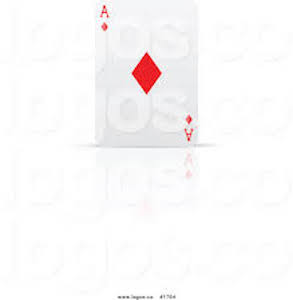AceOfDiamonds: (91, 1, 204, 152)
